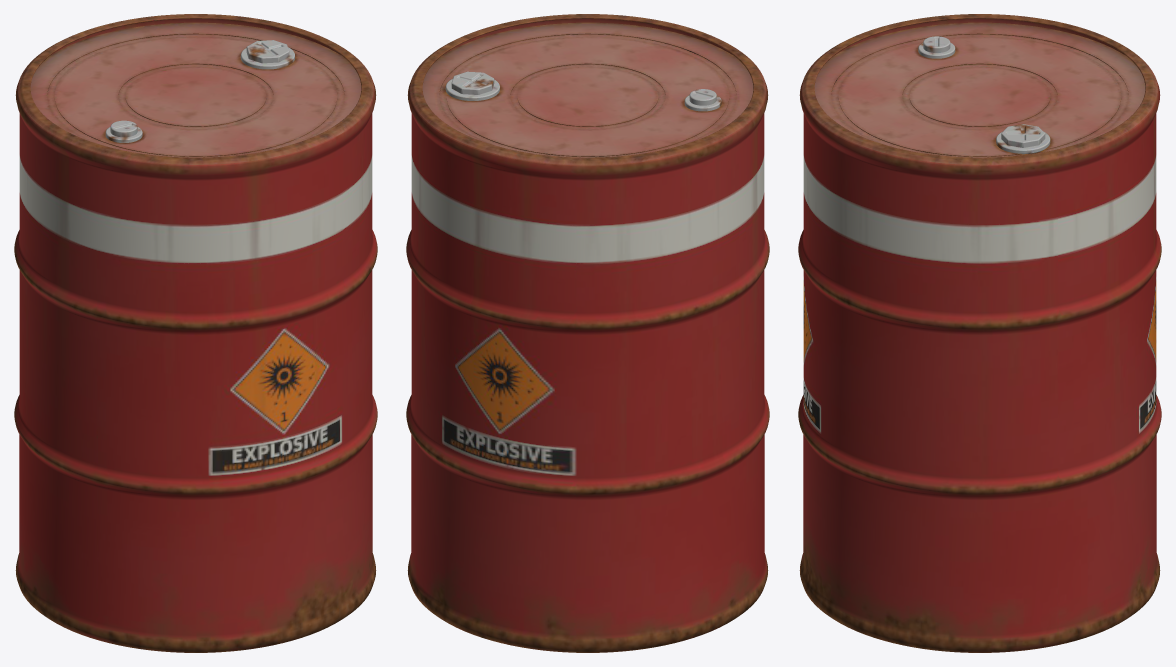
Rendered from Barrel_Explosive_Red.glb.
3 views of the same model, side by side, from view 1: azimuth 30°, elevation 25°; view 2: azimuth 150°, elevation 25°; view 3: azimuth 270°, elevation 25° (orthographic).
Parts seen in each view (by area): view 1: Barrel_Explosive_Red; view 2: Barrel_Explosive_Red; view 3: Barrel_Explosive_Red.
Boxes of the visible parts, x1,y1,x2,y2 form: Barrel_Explosive_Red: [14, 14, 377, 652]; Barrel_Explosive_Red: [406, 14, 769, 652]; Barrel_Explosive_Red: [798, 14, 1161, 652].
Bounding box in the file's own units: 0.589 × 0.88 × 0.589.
Materials: 1 (1 with a texture image).
